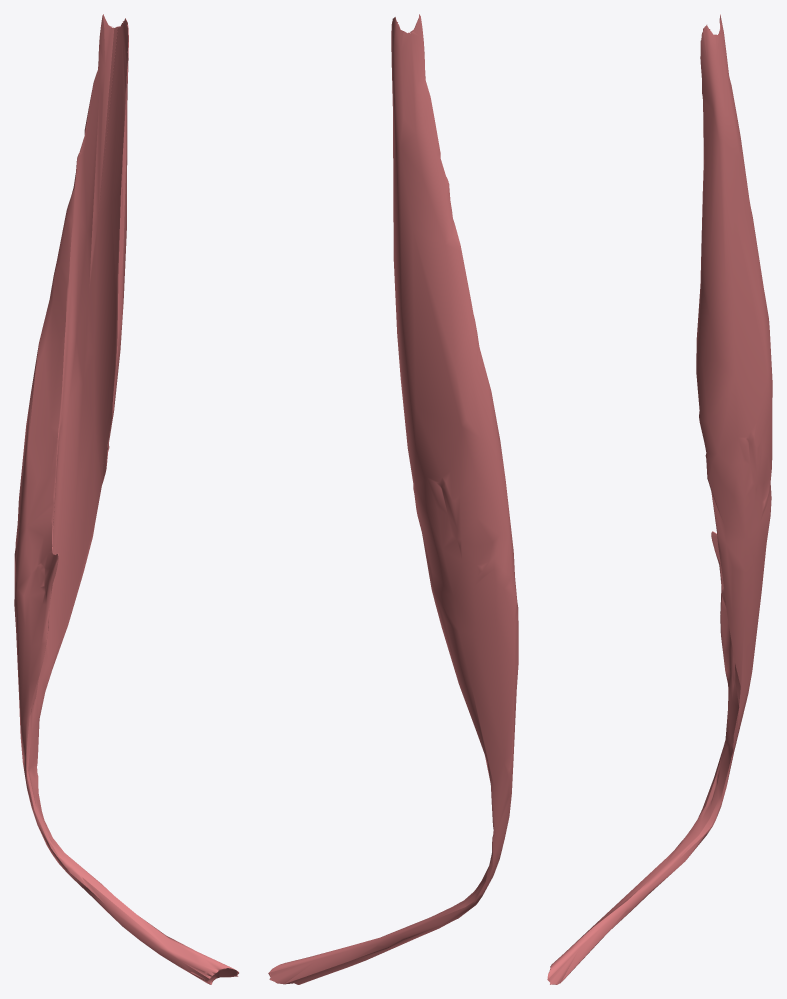
3 views of the same model, side by side, from view 1: azimuth 30°, elevation 25°; view 2: azimuth 210°, elevation 25°; view 3: azimuth 270°, elevation 25° (orthographic). The views are drawn at different scales.
Parts seen in each view (by area): view 1: FJ1409M; view 2: FJ1409M; view 3: FJ1409M.
Boxes of the visible parts, x1,y1,x2,y2 form: FJ1409M: (14,14,238,984); FJ1409M: (268,14,518,984); FJ1409M: (547,14,772,984).
Size of the model in its own units: 0.0354 by 0.2434 by 0.0522.
